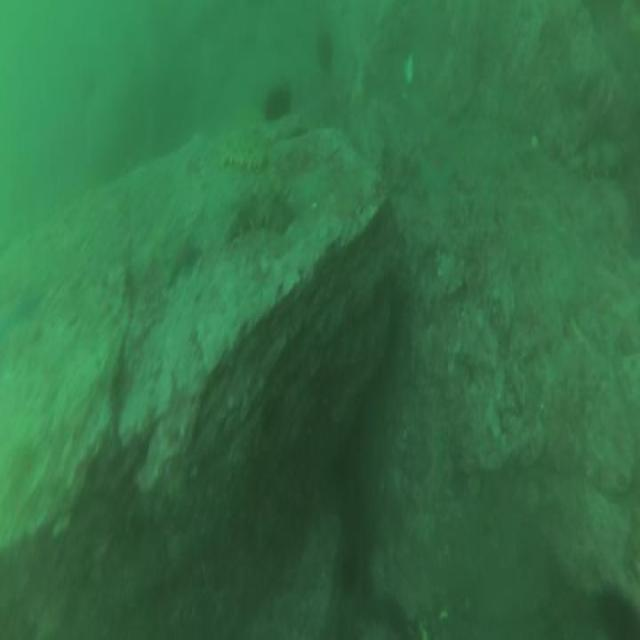echinus: (262, 77, 294, 128), (314, 22, 335, 71)
holothurian: (220, 184, 292, 246), (563, 128, 638, 182), (220, 136, 270, 178)
starfish: (158, 230, 205, 288), (6, 278, 44, 332)
